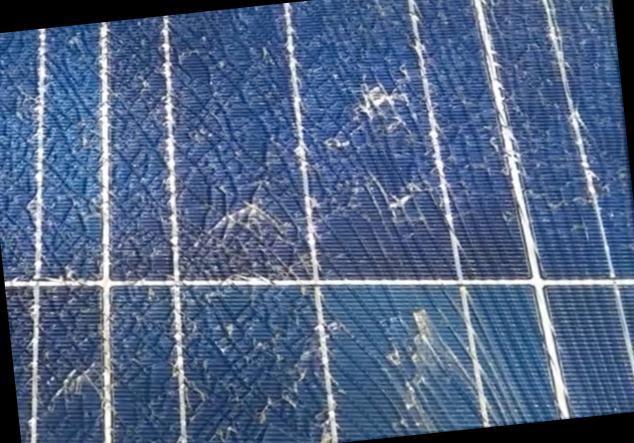Crack: (309, 0, 623, 259), (0, 6, 320, 211), (326, 233, 633, 442), (146, 185, 335, 442), (1, 195, 173, 442), (324, 52, 452, 186)
